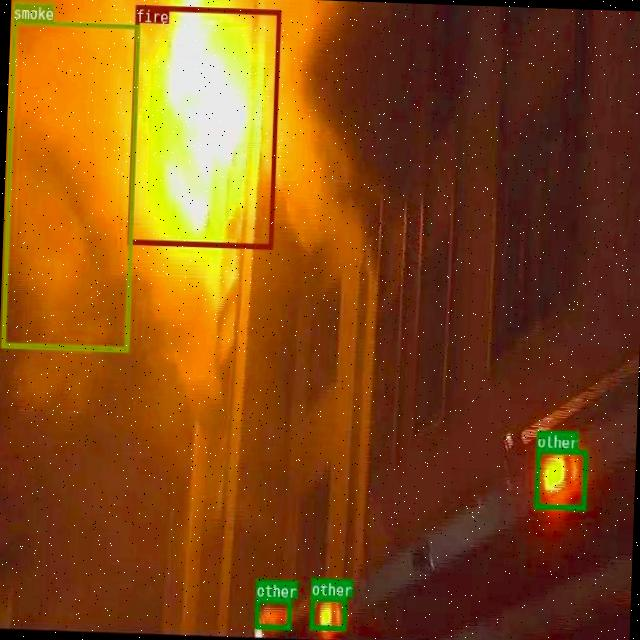fire: (126, 4, 280, 248)
smoke: (0, 19, 139, 350)
